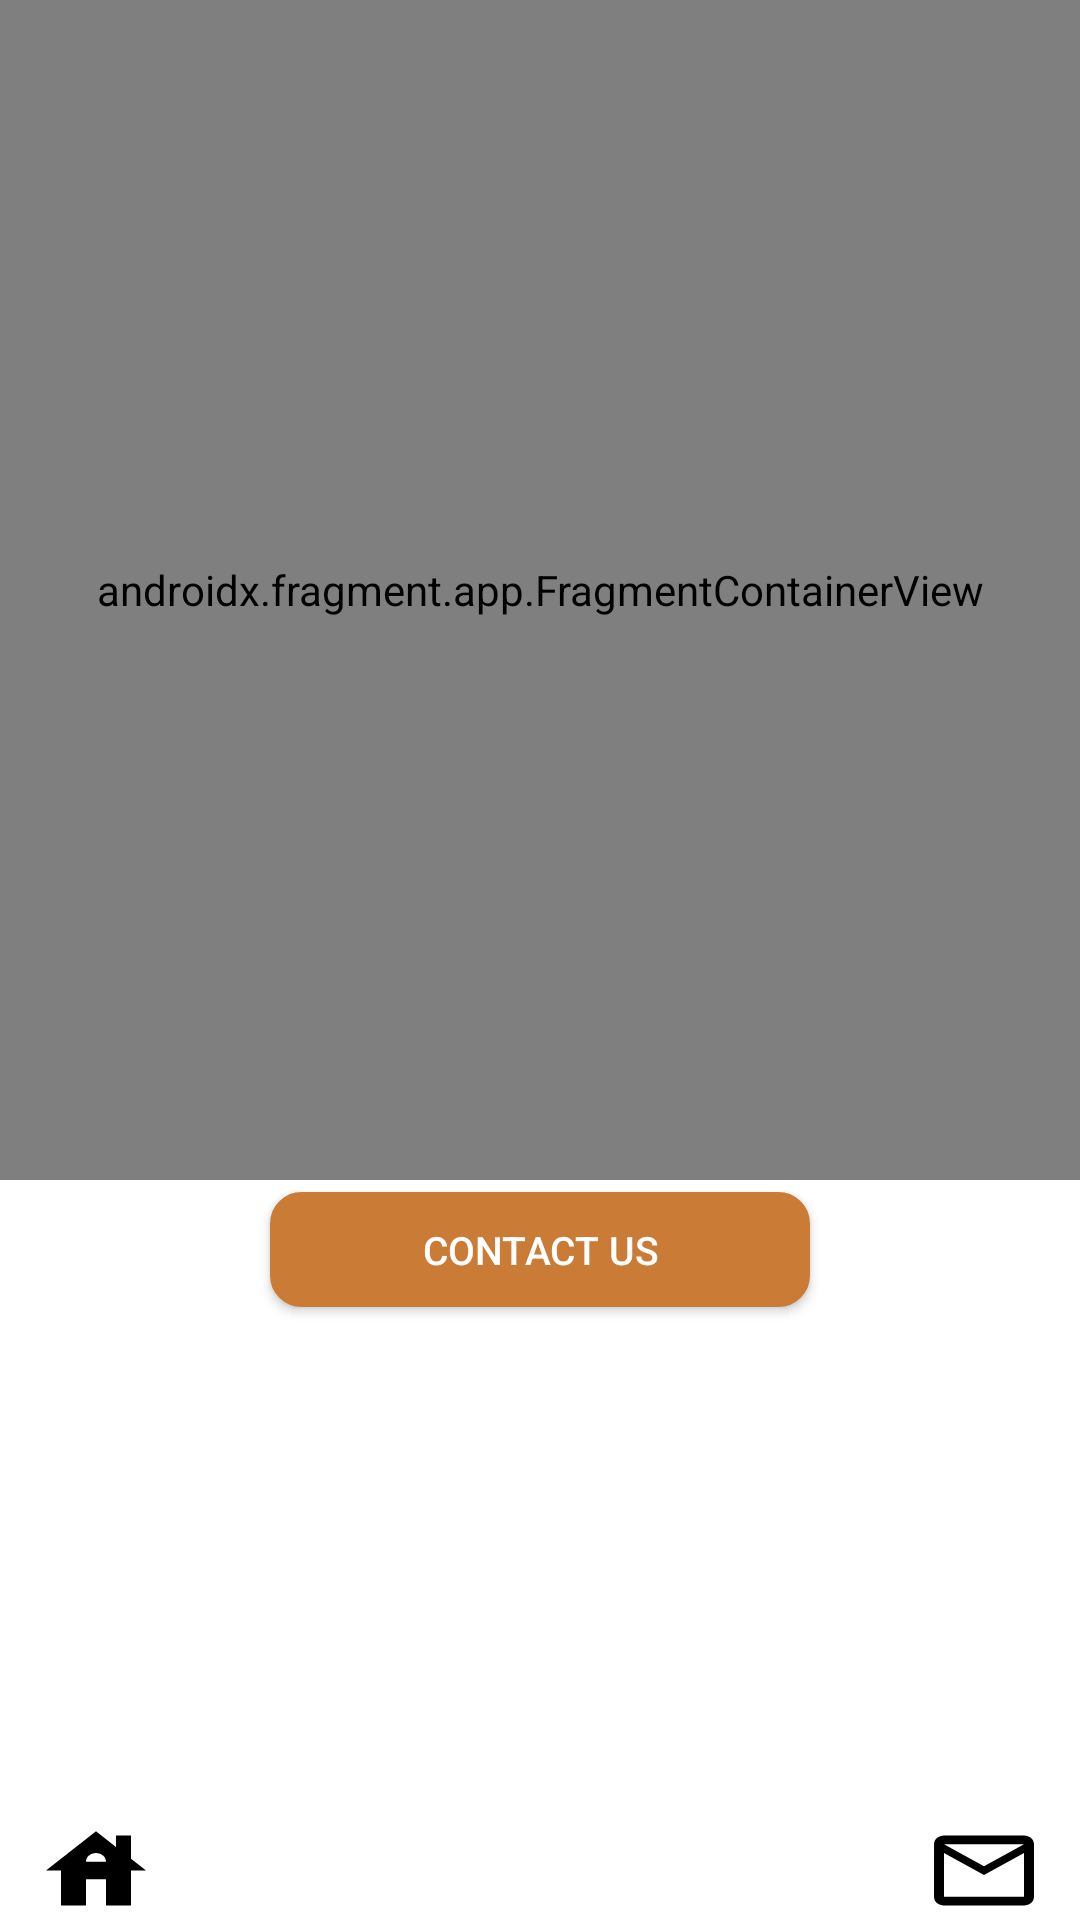

Screen size 1080*1920. Icon name, then its center in pixels as (x=x, y=y):
house: (x=96, y=1868)
mail: (x=984, y=1870)
